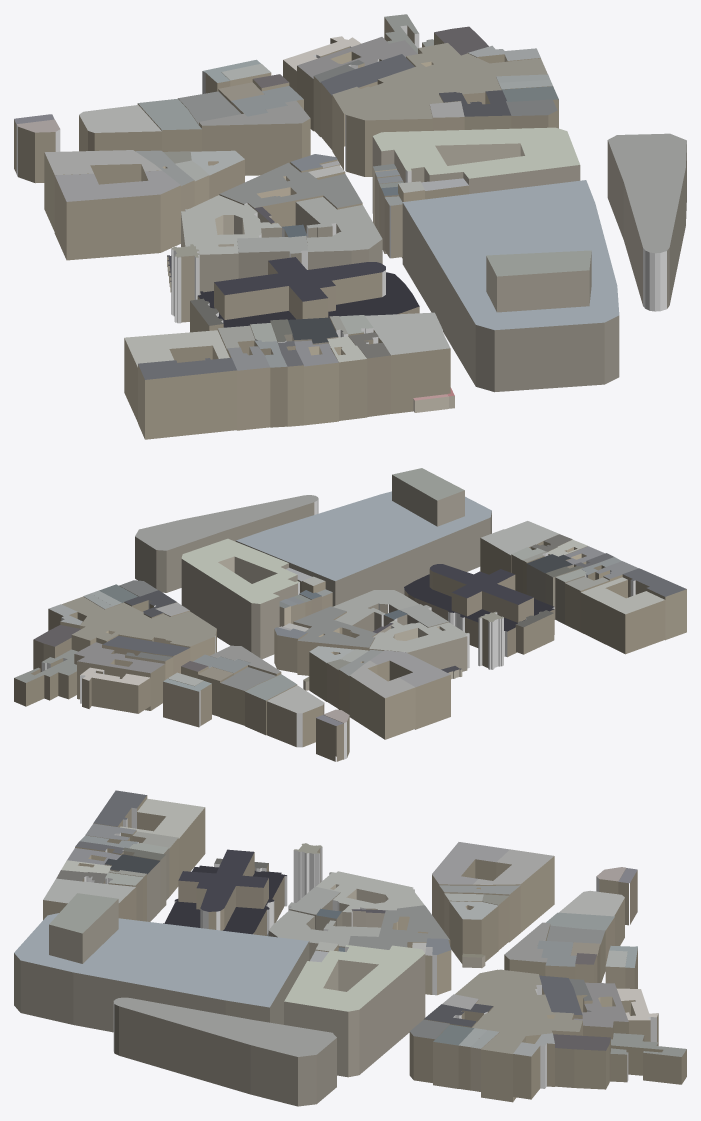
3 renders of one model, top to bottom at view 1: azimuth 30°, elevation 25°; view 2: azimuth 150°, elevation 25°; view 3: azimuth 270°, elevation 25°, orthographic. The views are drawn at different scales.
Parts seen in each view (by area): view 1: tuile; view 2: tuile; view 3: tuile.
Part boxes in pixels (x1=…): tuile: x1=14, y1=14, x2=686, y2=439; tuile: x1=14, y1=468, x2=686, y2=761; tuile: x1=14, y1=790, x2=686, y2=1106.
Size of the model in its own units: 267 by 41.21 by 283.
